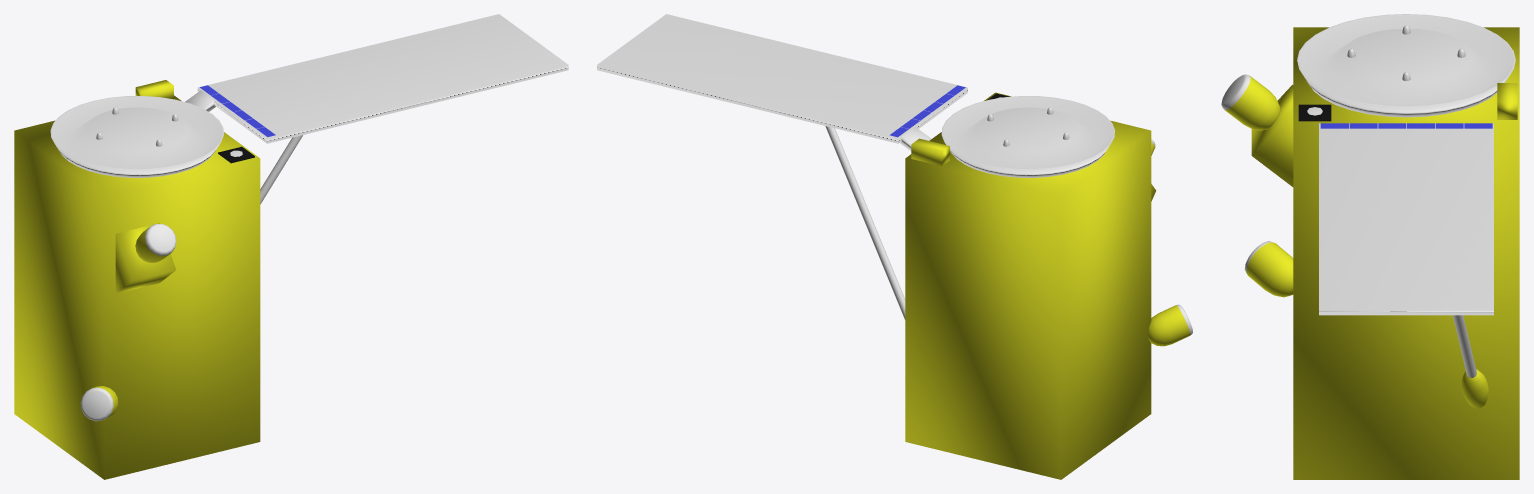
Rendered from satellite_2_1784487410163_model.glb.
3 renders of one model, left to right at view 1: azimuth 30°, elevation 25°; view 2: azimuth 150°, elevation 25°; view 3: azimuth 270°, elevation 25°, orthographic. The views are drawn at different scales.
Visible parts, largest first — view 1: Cube, Cube.003, Cylinder, Cylinder.005, Cylinder.006, Cylinder.003, Plane; view 2: Cube, Cube.003, Cylinder, Cylinder.003, Cylinder.006, Cube.001; view 3: Cube, Cube.003, Cylinder, Cylinder.005, Cylinder.006, Plane, Cylinder.004, Cube.001, Cylinder.003, Cube.002.
Boxes of the visible parts, <box> form: Cube: <box>14,95,260,479</box>; Cube.003: <box>197,14,568,143</box>; Cylinder: <box>50,96,223,177</box>; Cylinder.005: <box>135,224,176,262</box>; Cylinder.006: <box>80,386,118,421</box>; Cylinder.003: <box>260,135,302,204</box>; Plane: <box>200,85,275,136</box>; Cube: <box>905,92,1156,479</box>; Cube.003: <box>597,14,967,143</box>; Cylinder: <box>941,96,1114,177</box>; Cylinder.003: <box>825,126,905,319</box>; Cylinder.006: <box>1148,304,1192,346</box>; Cube.001: <box>911,138,949,166</box>; Cube: <box>1251,27,1519,479</box>; Cube.003: <box>1319,123,1493,315</box>; Cylinder: <box>1297,14,1515,117</box>; Cylinder.005: <box>1221,74,1280,130</box>; Cylinder.006: <box>1244,241,1293,297</box>; Plane: <box>1320,123,1492,128</box>; Cylinder.004: <box>1461,369,1488,408</box>; Cube.001: <box>1497,83,1517,119</box>; Cylinder.003: <box>1452,315,1476,377</box>; Cube.002: <box>1298,104,1331,121</box>.
Bounding box in the file's own units: 6.81 × 3.91 × 2.76.
